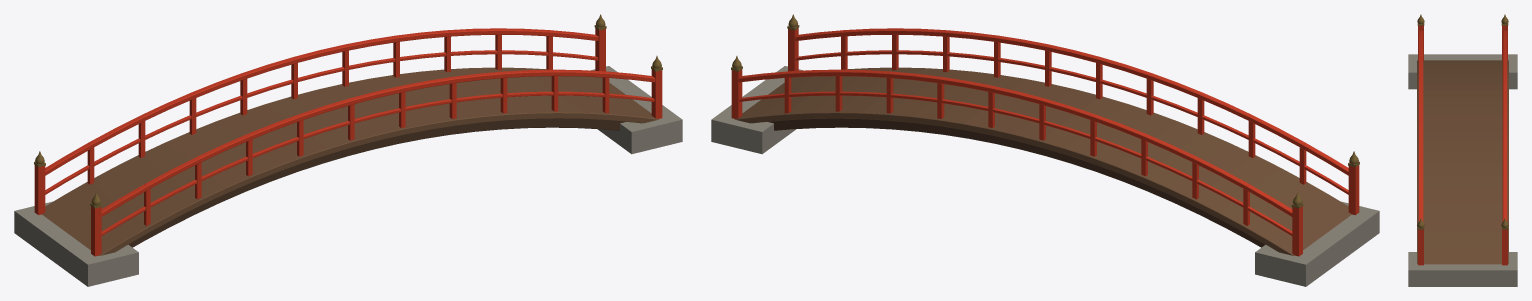
File: bridge.glb
3 renders of one model, left to right at view 1: azimuth 30°, elevation 25°; view 2: azimuth 150°, elevation 25°; view 3: azimuth 270°, elevation 25°, orthographic. The views are drawn at different scales.
Parts seen in each view (by area): view 1: deck0, stone40, vermilion22, vermilion4, beam3, stone41, vermilion5, vermilion23, vermilion6, vermilion35, vermilion24, vermilion17; view 2: deck0, stone40, vermilion4, vermilion22, beam1, stone41, vermilion23, vermilion5, vermilion24, vermilion17, vermilion6, vermilion35; view 3: deck0, stone41, stone40, vermilion4, vermilion22, vermilion17, vermilion35, vermilion6, vermilion24.
Boxes of the visible parts, box(x1,y1,x2,y2) form: deck0: box(42, 67, 659, 255); stone40: box(14, 201, 138, 286); vermilion22: box(101, 69, 655, 216); vermilion4: box(45, 28, 598, 175); beam3: box(128, 118, 625, 247); stone41: box(590, 66, 682, 154); vermilion5: box(45, 50, 598, 194); vermilion23: box(101, 91, 654, 235); vermilion6: box(34, 165, 45, 215); vermilion35: box(651, 69, 662, 118); vermilion24: box(91, 206, 101, 256); vermilion17: box(595, 28, 605, 77); deck0: box(734, 67, 1351, 255); stone40: box(1255, 201, 1379, 286); vermilion4: box(738, 69, 1292, 216); vermilion22: box(795, 28, 1348, 175); beam1: box(768, 118, 1265, 247); stone41: box(711, 66, 803, 154); vermilion23: box(795, 50, 1348, 194); vermilion5: box(739, 91, 1292, 235); vermilion24: box(1348, 165, 1359, 215); vermilion17: box(731, 69, 742, 118); vermilion6: box(1292, 206, 1302, 256); vermilion35: box(788, 28, 798, 77); deck0: box(1417, 60, 1508, 264); stone41: box(1408, 252, 1517, 286); stone40: box(1408, 54, 1517, 89); vermilion4: box(1502, 30, 1507, 221); vermilion22: box(1418, 30, 1423, 221); vermilion17: box(1502, 229, 1507, 265); vermilion35: box(1418, 229, 1423, 265); vermilion6: box(1502, 25, 1507, 60); vermilion24: box(1418, 25, 1423, 60).
Bounding box in the file's own units: 14 × 2.6 × 3.
